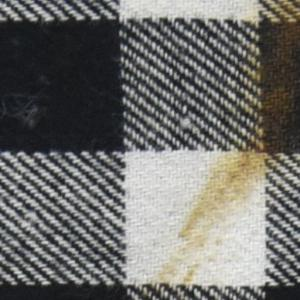Oil Stain: (141, 1, 300, 300)
